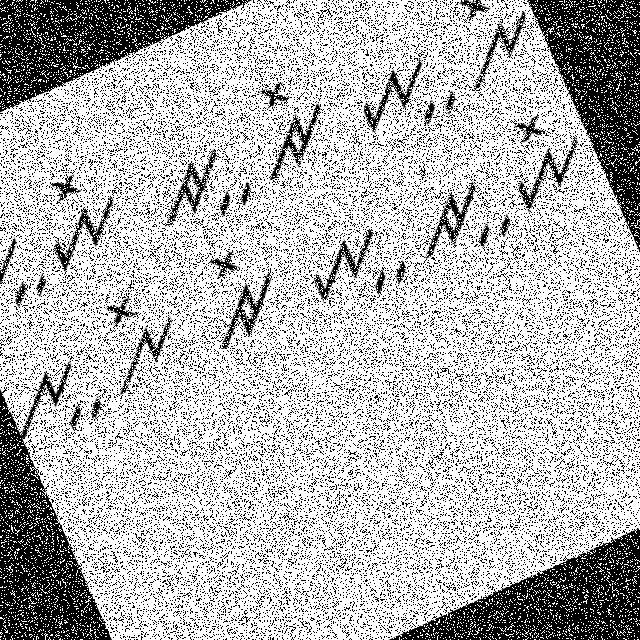lah: (0, 344, 114, 459), (0, 224, 58, 331)
lo: (81, 275, 198, 399), (436, 0, 554, 99)
rah: (392, 154, 520, 275), (138, 132, 262, 245)
ro: (181, 233, 298, 356), (230, 65, 344, 184)
yah: (338, 30, 470, 153), (288, 207, 416, 325)
yo: (484, 96, 602, 218), (26, 160, 140, 276)
